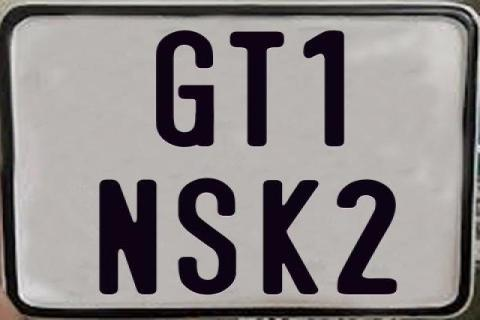0: (336, 178, 396, 296), (303, 31, 346, 150)
G: (156, 30, 218, 152)
K: (263, 179, 319, 295)
N: (97, 177, 155, 292)
S: (176, 176, 234, 293)
T: (230, 30, 289, 148)
